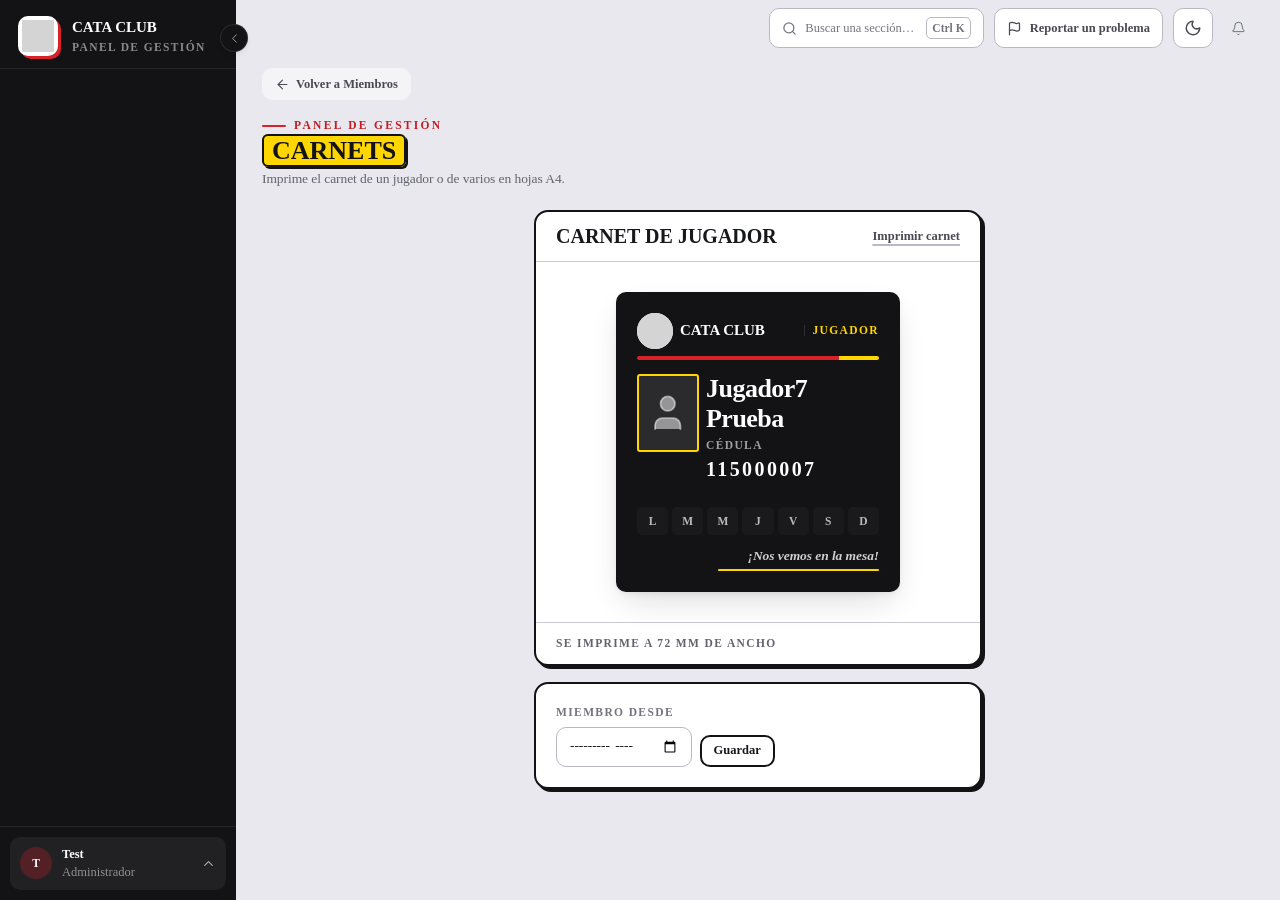
Test: CarnetsPage — «Miembro desde» (#1749) › lets the admin set the month under a single carnet and the card shows it at once
The image size is (1280, 900).
Type "2019-03" into the field named "Miembro desde de Jugador7 Prueba" at {"x": 624, "y": 747}, box [556,727,692,767]
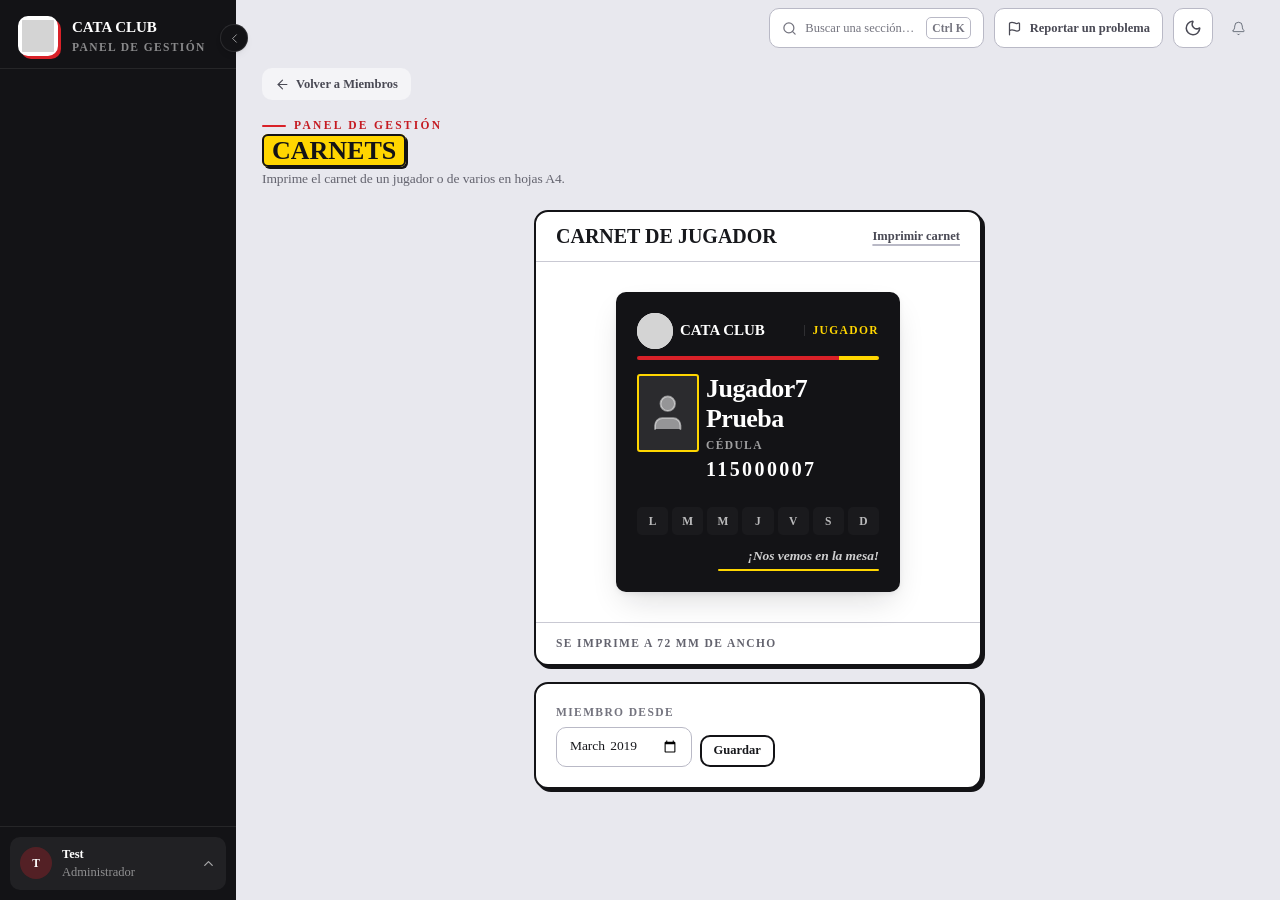
Click the button "Guardar" at {"x": 737, "y": 751}, box [700,735,775,767]
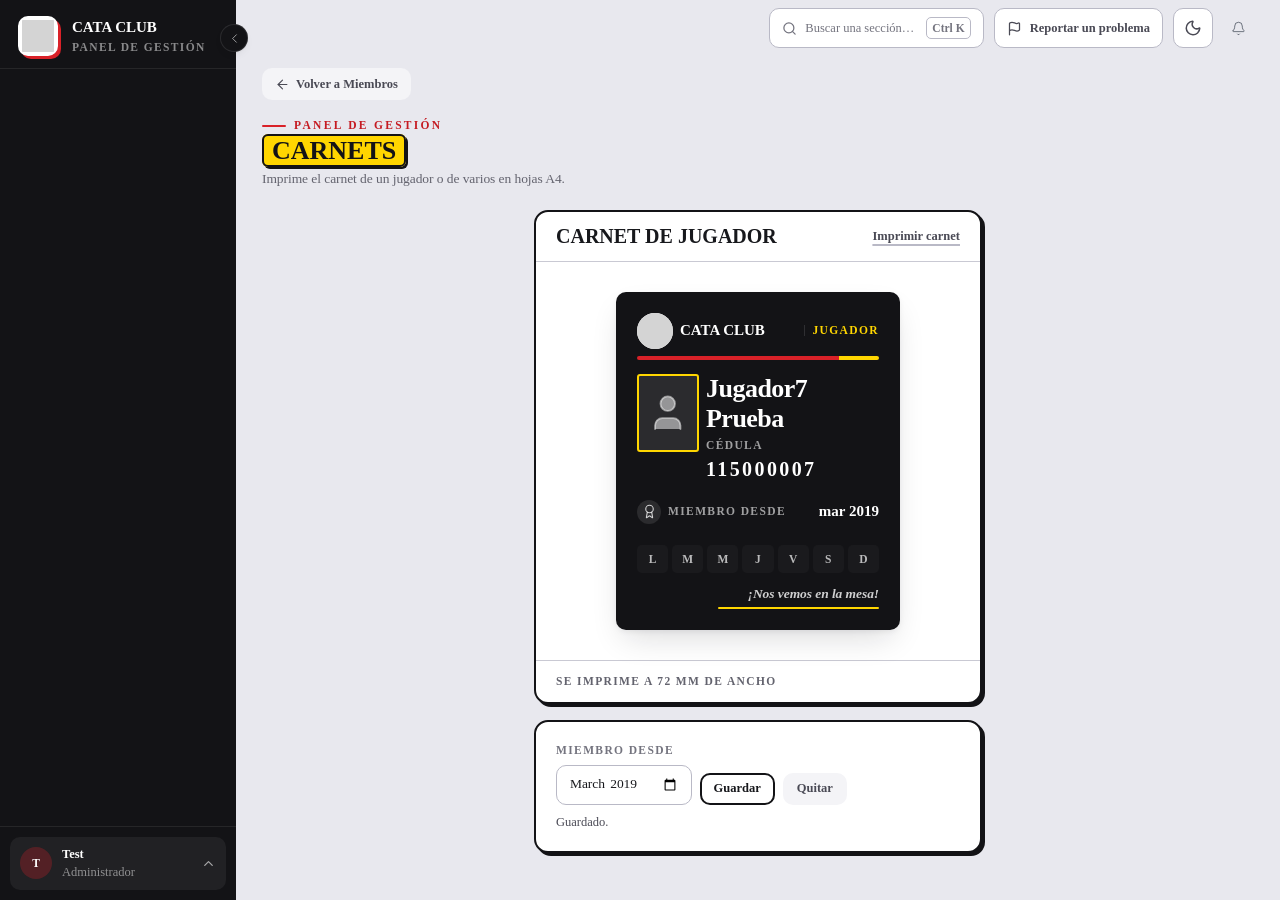
Expected: the text "mar 2019" is shown, [819,504,879,519]
